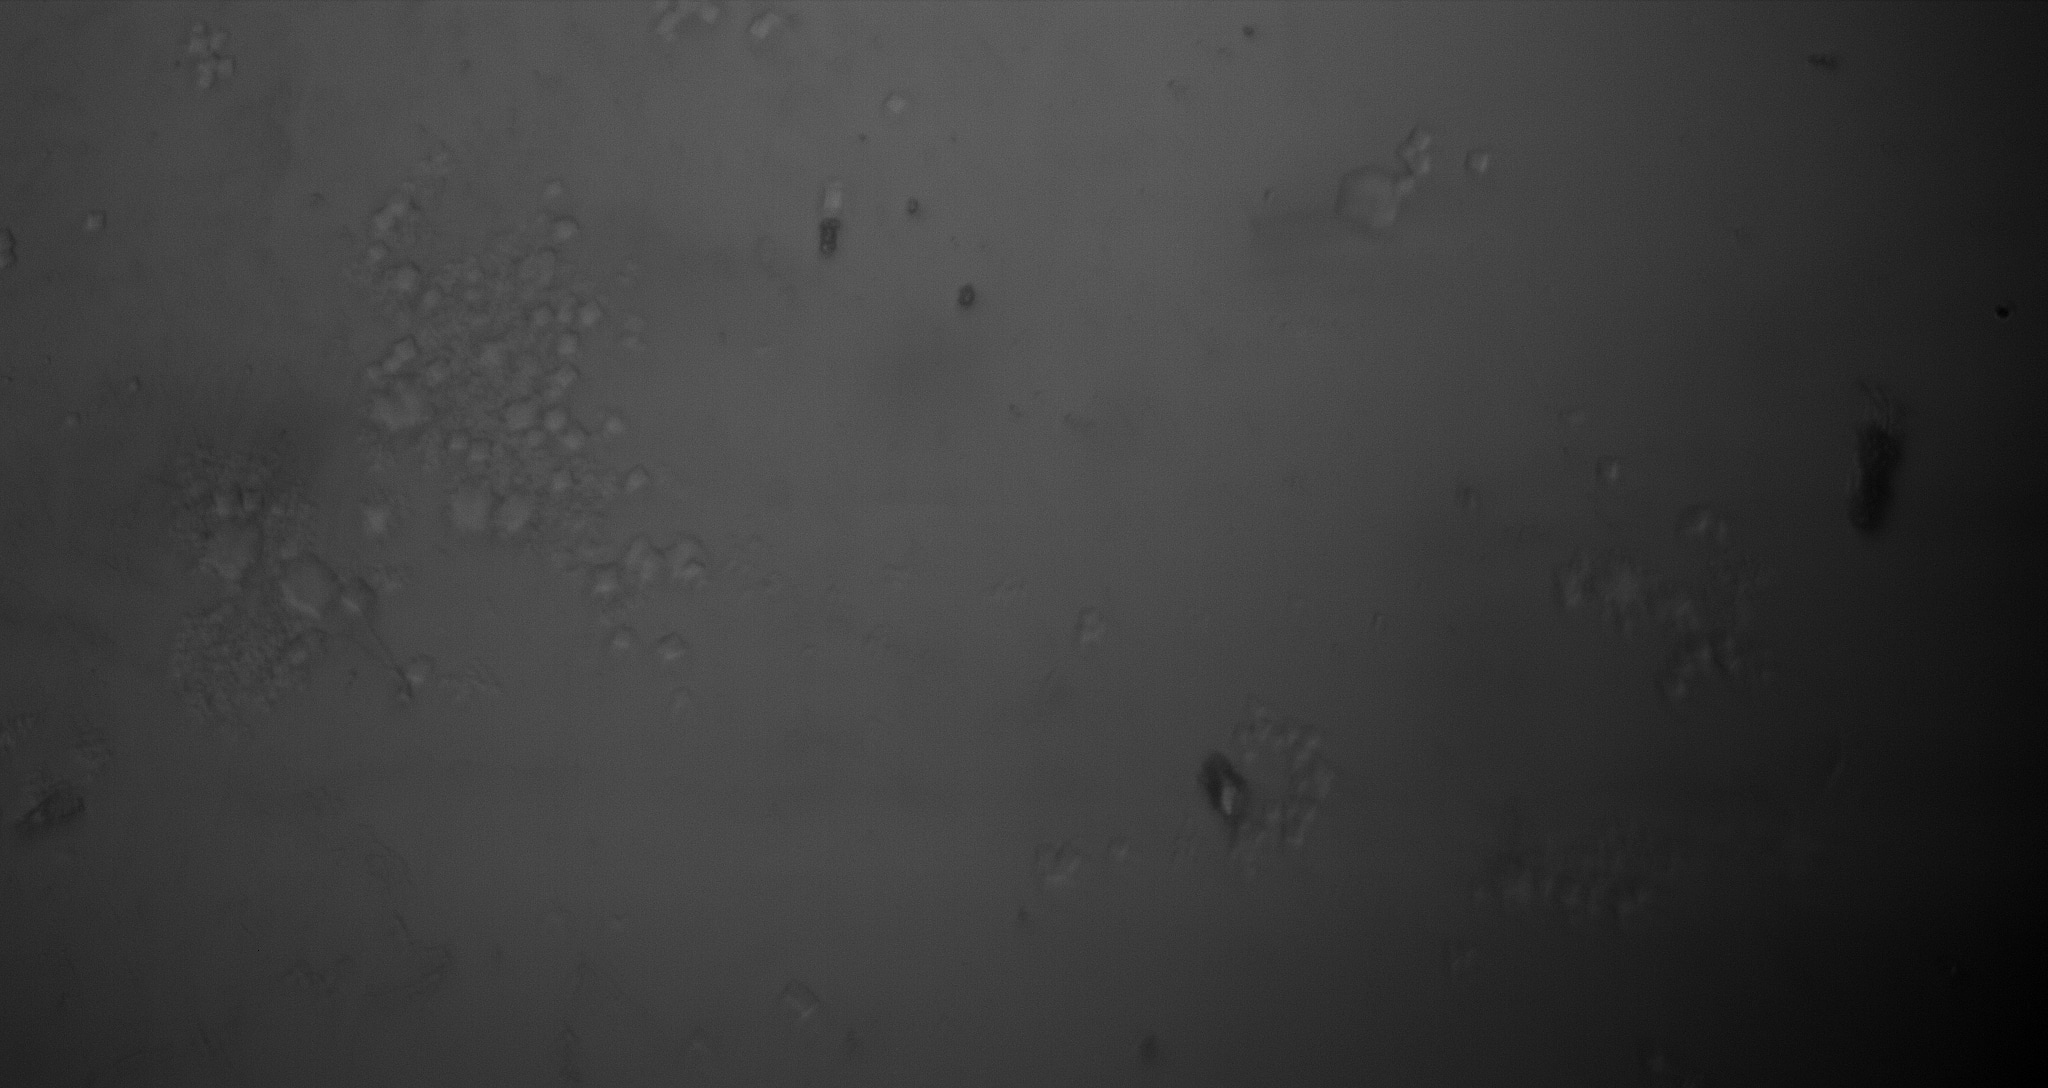square: (1336, 163, 1402, 234), (775, 973, 825, 1018), (653, 629, 696, 673), (337, 573, 375, 612), (586, 564, 620, 598), (404, 650, 436, 686), (1594, 453, 1623, 485), (817, 184, 851, 211), (1462, 149, 1495, 173), (360, 238, 394, 263), (549, 215, 581, 240), (576, 304, 605, 328), (880, 93, 910, 117), (605, 629, 631, 654), (83, 211, 108, 230)
